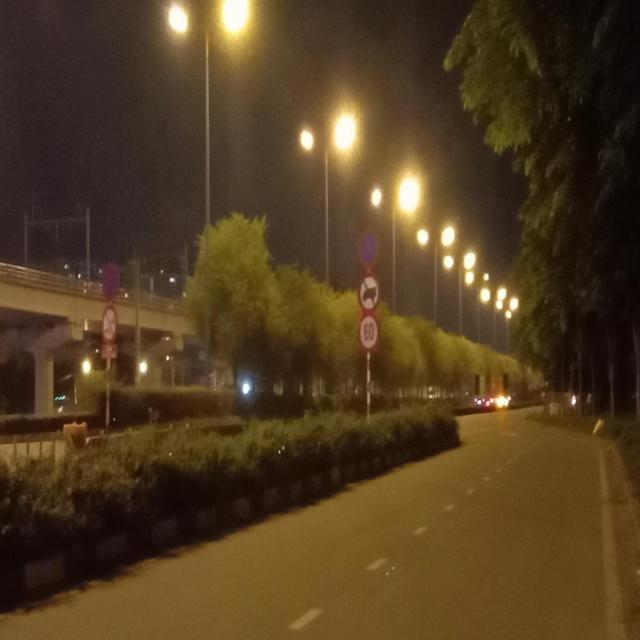cam_dung_xe_va_do_xe: (356, 230, 380, 271), (100, 262, 122, 304)
cam_o_to_tai: (357, 272, 380, 314)
cam_xe_2_banh_va_xe_3_banh_co_dong_co: (101, 303, 119, 345)
toc_do_toi_da_60: (357, 313, 380, 354)
